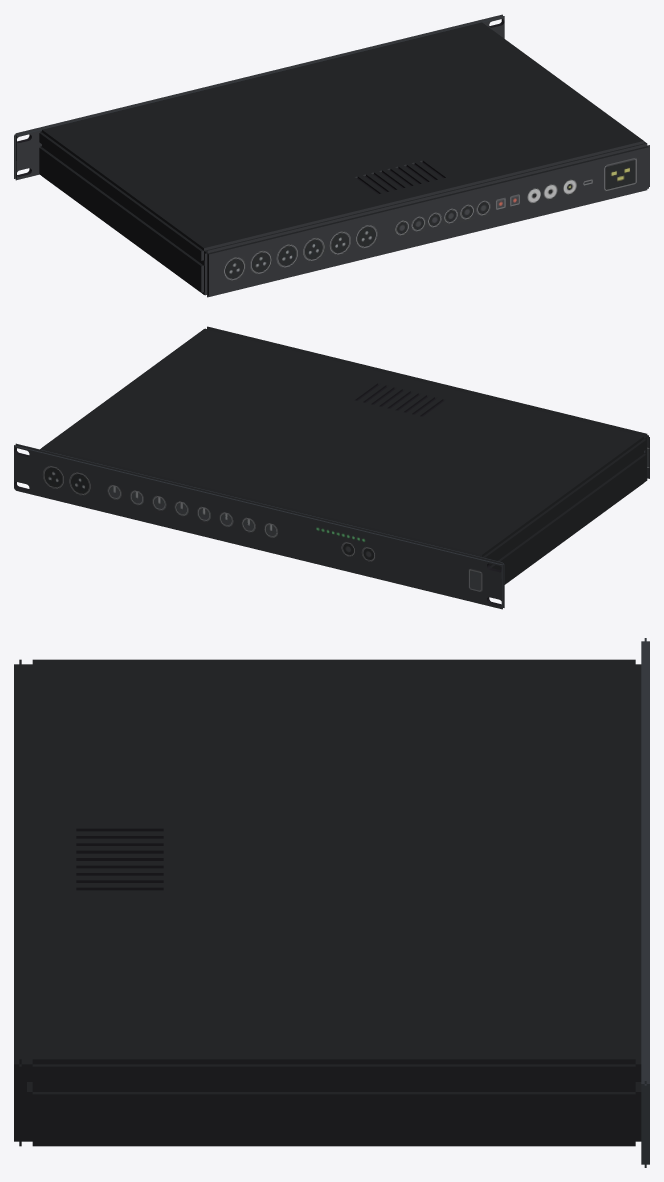
The model's file is focusrite-clarett-plus-8pre.glb.
The picture shows the model from 3 angles, top to bottom: view 1: azimuth 30°, elevation 25°; view 2: azimuth 150°, elevation 25°; view 3: azimuth 270°, elevation 25°; orthographic projection. The views are drawn at different scales.
Visible parts, largest first — view 1: focusrite-clarett-plus-8pre-body; view 2: focusrite-clarett-plus-8pre-body; view 3: focusrite-clarett-plus-8pre-body.
Boxes of the visible parts, bbox=[...] form: focusrite-clarett-plus-8pre-body: bbox=[14, 14, 649, 297]; focusrite-clarett-plus-8pre-body: bbox=[14, 326, 649, 609]; focusrite-clarett-plus-8pre-body: bbox=[14, 638, 649, 1167].
Bounding box in the file's own units: 0.4825 × 0.0439 × 0.291.
1 material, 1 textured.
